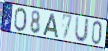0: (91, 20, 103, 46)
7: (61, 14, 73, 42)
8: (30, 10, 42, 35)
A: (42, 13, 59, 38)
O: (13, 7, 27, 33)
U: (74, 15, 91, 44)
